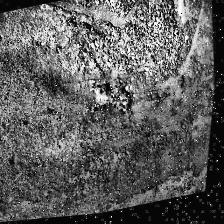pothole: (80, 72, 142, 126)
